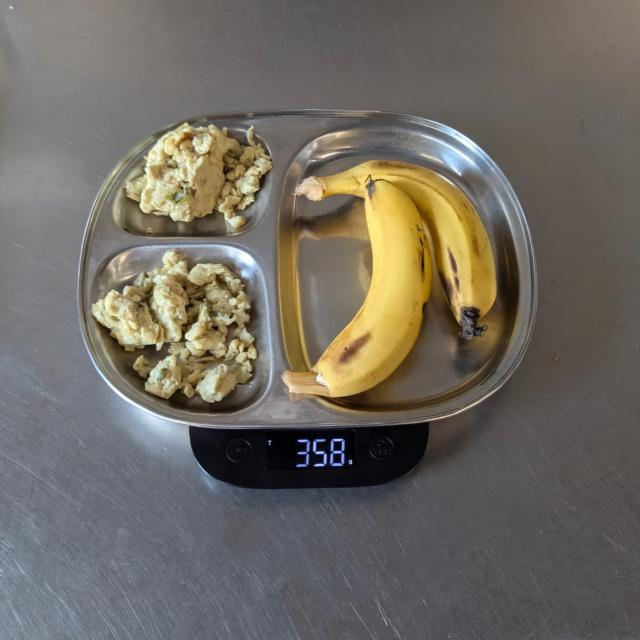Banana: (296, 165, 496, 390)
Egg Bhurji: (117, 260, 262, 394), (142, 124, 264, 224)
